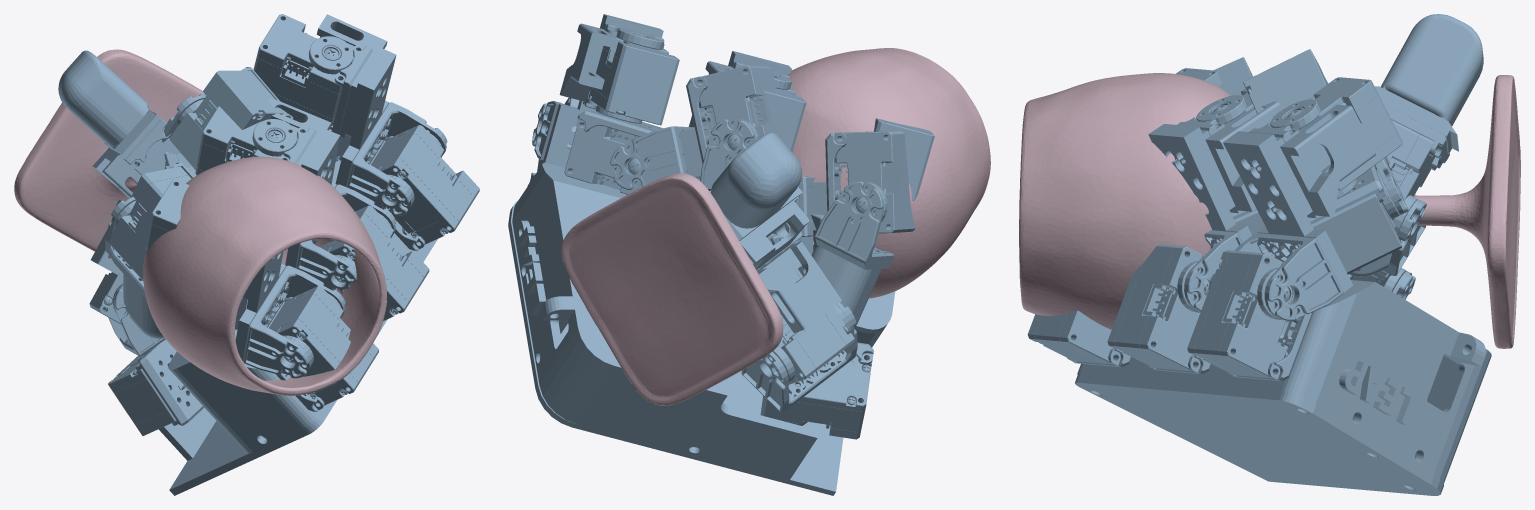
The picture shows the model from 3 angles, left to right: view 1: azimuth 30°, elevation 25°; view 2: azimuth 150°, elevation 25°; view 3: azimuth 270°, elevation 25°; orthographic projection. The views are drawn at different scales.
Parts seen in each view (by area): view 1: world, obj_mesh_grasp_10.obj; view 2: world, obj_mesh_grasp_10.obj; view 3: world, obj_mesh_grasp_10.obj.
Boxes of the visible parts, <box> form: world: <box>58,14,479,495</box>; obj_mesh_grasp_10.obj: <box>14,49,387,395</box>; world: <box>508,14,934,495</box>; obj_mesh_grasp_10.obj: <box>561,48,990,405</box>; world: <box>1027,14,1491,495</box>; obj_mesh_grasp_10.obj: <box>1019,73,1520,348</box>.
Bounding box in the file's own units: 0.1463 × 0.1647 × 0.1538.
